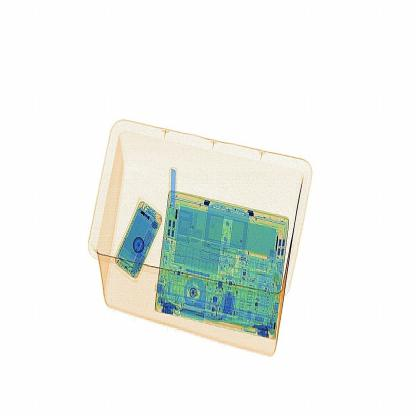pliers: (163, 160, 185, 224)
